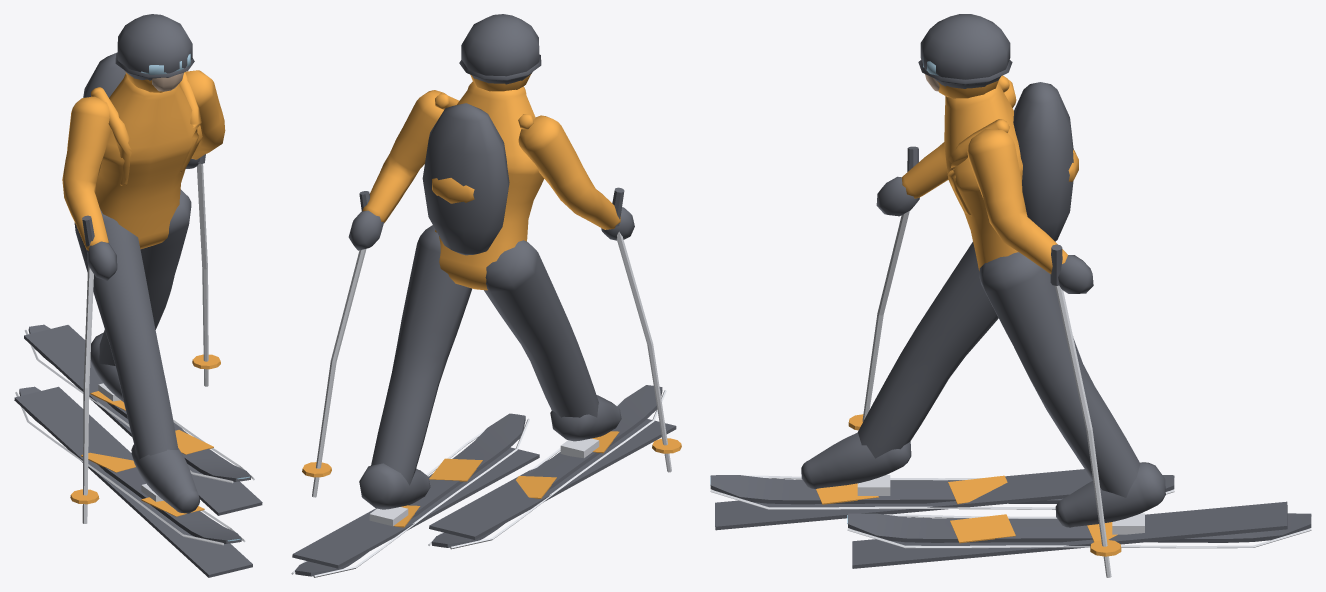
File: backcountry-snowboarding-and-avalanche-safety-splitboa-60021f35__18917.glb
The picture shows the model from 3 angles, left to right: view 1: azimuth 30°, elevation 25°; view 2: azimuth 150°, elevation 25°; view 3: azimuth 270°, elevation 25°; orthographic projection. The views are drawn at different scales.
Visible parts, largest first — view 1: splitboarder-skinning-uphill; view 2: splitboarder-skinning-uphill; view 3: splitboarder-skinning-uphill.
Boxes of the visible parts, bbox=[...] form: splitboarder-skinning-uphill: bbox=[14, 14, 262, 577]; splitboarder-skinning-uphill: bbox=[291, 14, 681, 577]; splitboarder-skinning-uphill: bbox=[710, 14, 1311, 577].
Size of the model in its own units: 1.01 by 1.76 by 1.84.
